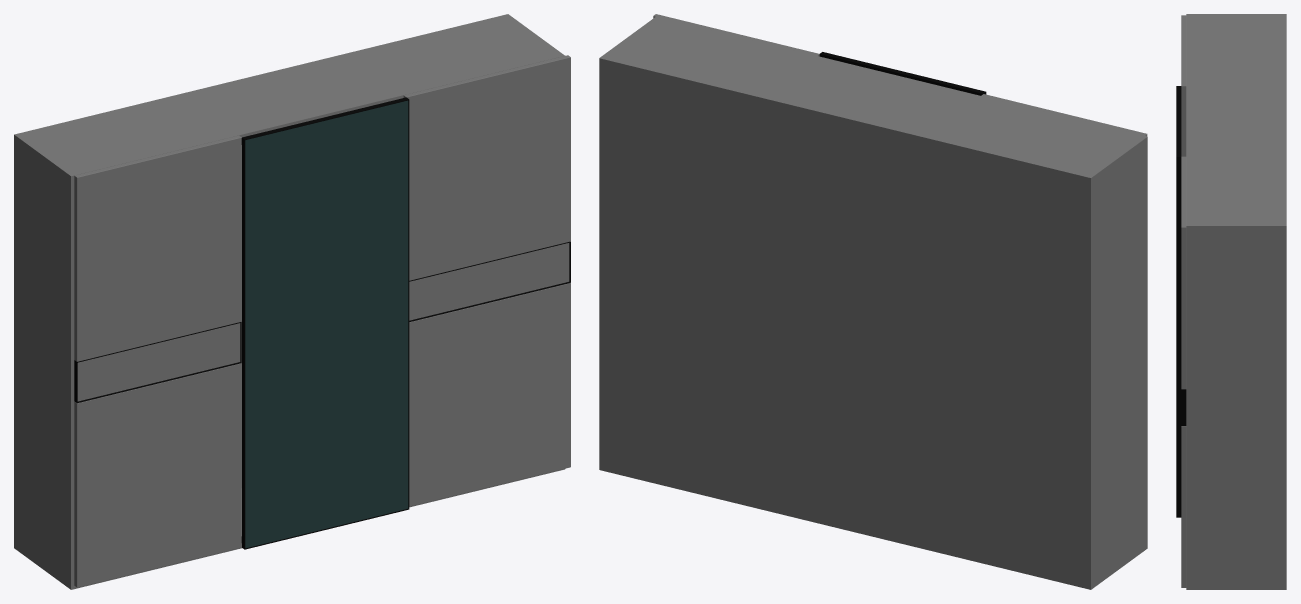
File: green-and-gray-wardrobe.obj
The picture shows the model from 3 angles, left to right: view 1: azimuth 30°, elevation 25°; view 2: azimuth 150°, elevation 25°; view 3: azimuth 270°, elevation 25°; orthographic projection. The views are drawn at different scales.
Visible parts, largest first — view 1: Wardrobe_025; view 2: Wardrobe_025; view 3: Wardrobe_025.
Part boxes in pixels (<box>): Wardrobe_025: <box>14,14,570,589</box>; Wardrobe_025: <box>599,14,1147,589</box>; Wardrobe_025: <box>1176,14,1286,589</box>.
Bounding box in the file's own units: 302 × 240 × 66.
